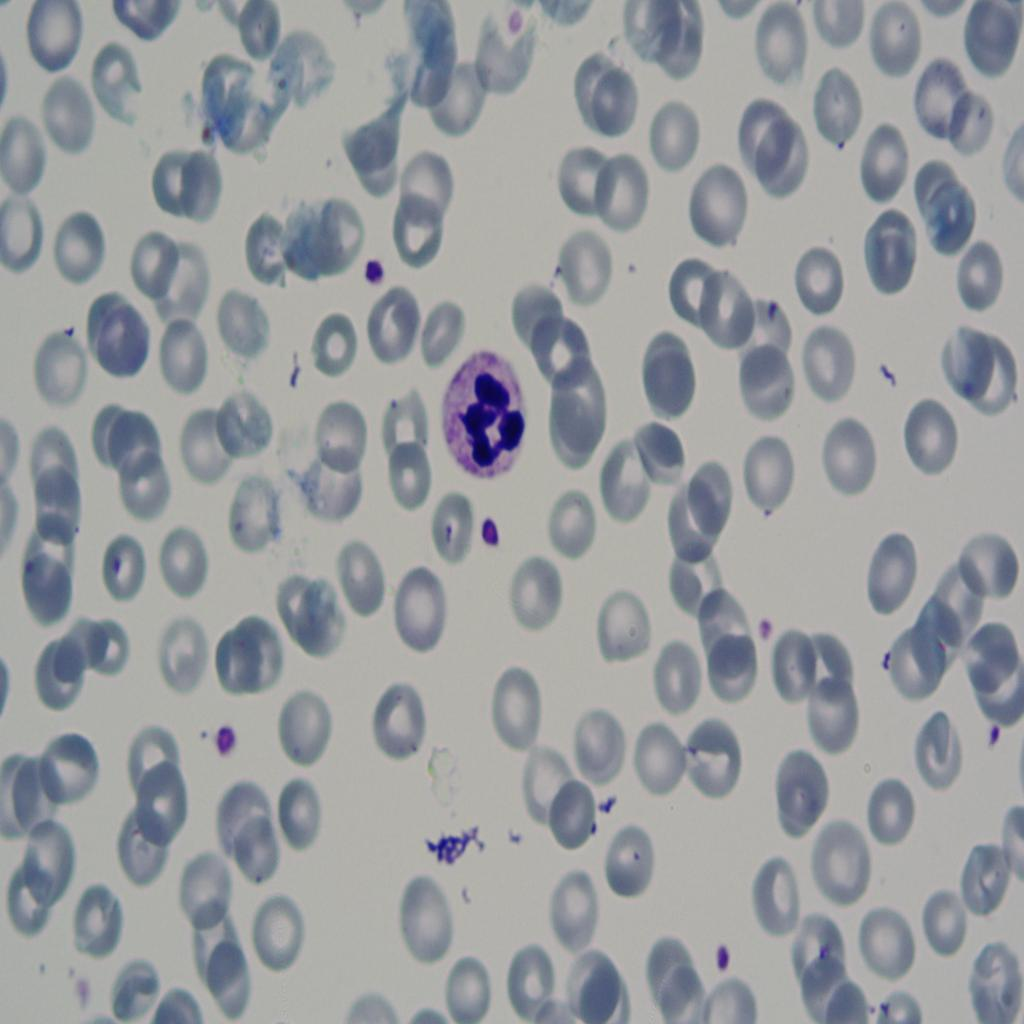Neutrofil: (437, 339, 530, 488)
Platelet: (700, 933, 740, 989), (352, 244, 390, 294), (208, 714, 239, 763), (475, 504, 503, 550), (748, 608, 780, 644), (987, 703, 1005, 763)
